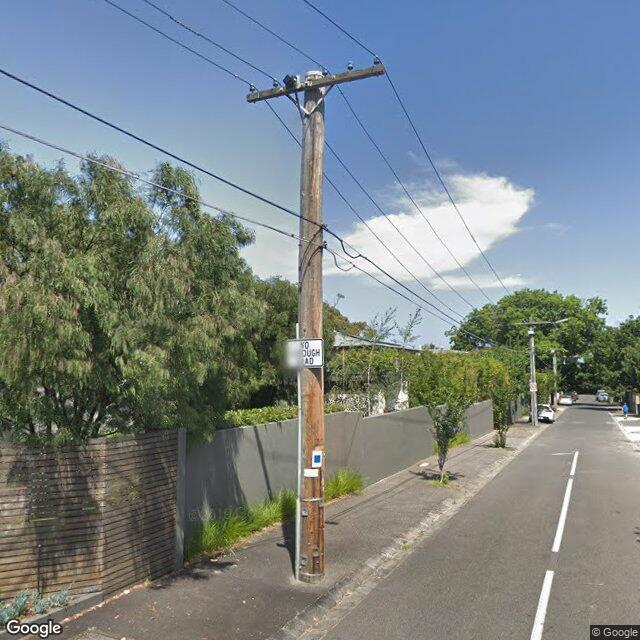crossarm: (234, 56, 386, 105), (515, 320, 552, 326)
streetlight: (552, 318, 571, 324)
timber-pole: (293, 69, 328, 584), (528, 316, 538, 426)
